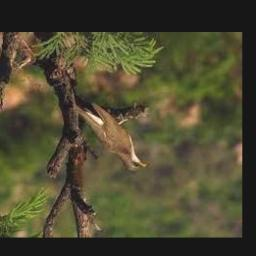Cuckoo: (74, 102, 147, 173)
